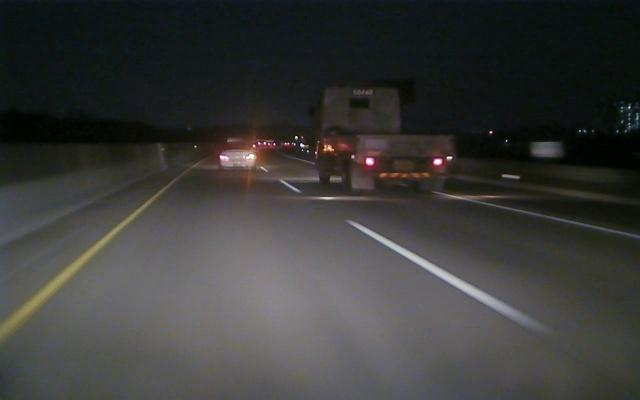lane: (276, 178, 555, 336), (3, 193, 159, 342), (425, 189, 639, 241)
